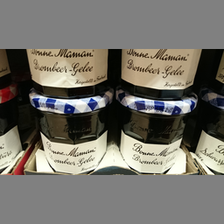jam: (113, 89, 198, 175), (27, 88, 113, 173), (116, 49, 205, 99), (24, 50, 111, 97)
